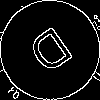D: (25, 25, 81, 84)
